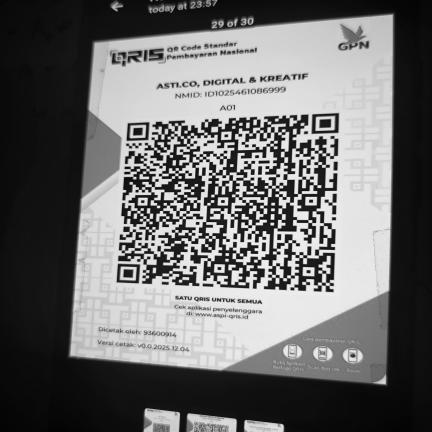Cara Pakai QRIS: (264, 331, 371, 382)
Cek Aplikasi Penyelenggara: (169, 303, 268, 323)
Dicetak Oleh: (97, 324, 180, 340)
Logo GPN: (330, 19, 377, 57)
Logo dan deskripsi QRIS: (99, 33, 266, 71)
Nama Merchant: (152, 69, 316, 92)
National Merchant ID: (169, 84, 295, 102)
QR Code: (112, 107, 343, 298)
Slogan: (170, 293, 269, 307)
Terminal ID: (215, 103, 240, 113)
Versi Cetak: (94, 337, 193, 354)
